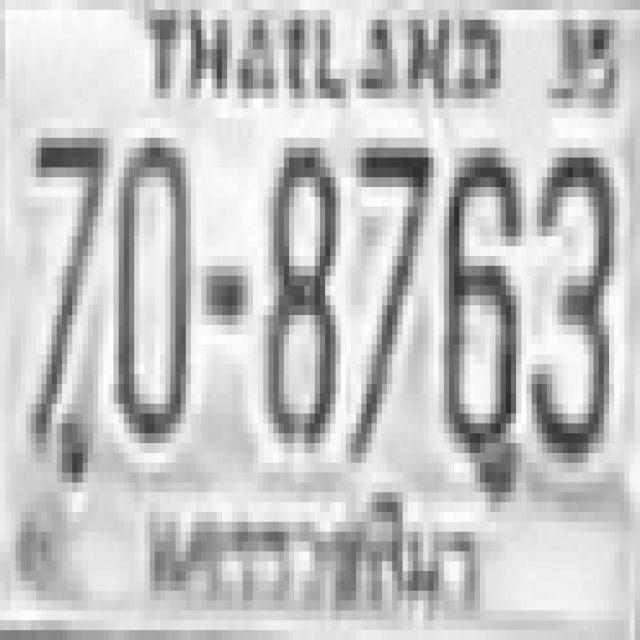0: (113, 128, 186, 433)
3: (526, 138, 609, 453)
6: (439, 138, 516, 472)
7: (26, 128, 103, 453), (351, 138, 428, 453)
8: (258, 138, 336, 433)
NakhonRatchasima: (138, 477, 490, 634)
